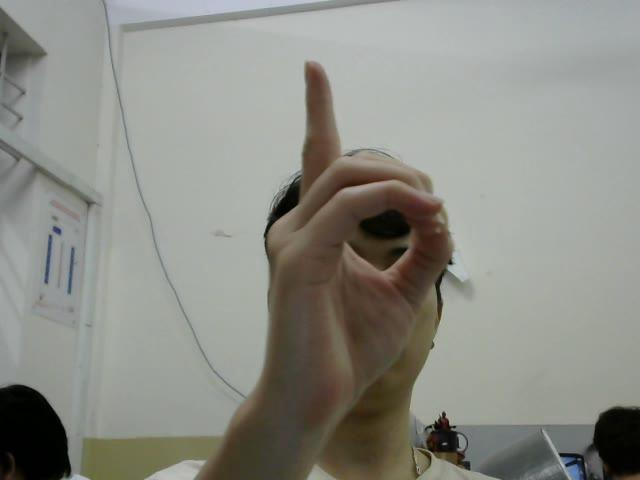D: (264, 59, 453, 412)
